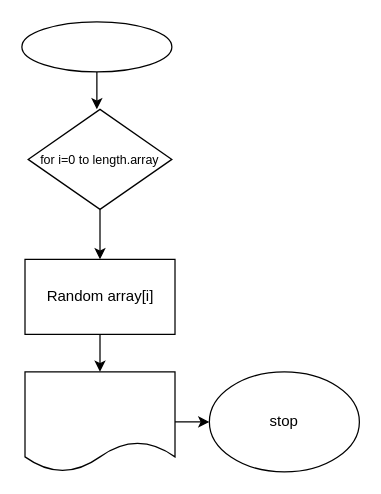
Image size: 381x494. Some labels were removed from this diagram. Here are the shapes that lost their labels. From the top down, the centre of each, then its label:
the point at 96,46: start
the point at 99,421: вывод массива ввывод второго символа
